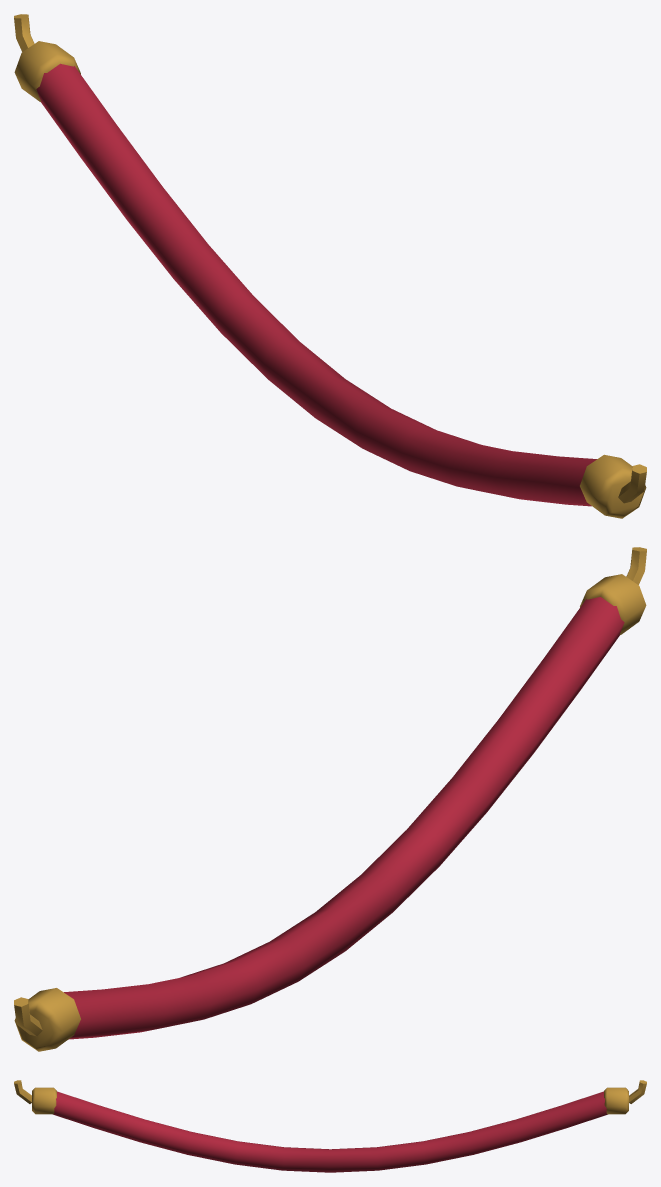
The model's file is SM_Prop_VelvetRope.fbx.
3 renders of one model, top to bottom at view 1: azimuth 30°, elevation 25°; view 2: azimuth 150°, elevation 25°; view 3: azimuth 270°, elevation 25°, orthographic. The views are drawn at different scales.
Parts seen in each view (by area): view 1: SM_Prop_VelvetRope; view 2: SM_Prop_VelvetRope; view 3: SM_Prop_VelvetRope.
Boxes of the visible parts, x1=… form: SM_Prop_VelvetRope: x1=14, y1=14, x2=646, y2=518; SM_Prop_VelvetRope: x1=14, y1=547, x2=646, y2=1051; SM_Prop_VelvetRope: x1=14, y1=1080, x2=646, y2=1172.
Size of the model in its own units: 6.85 by 24.21 by 153.
